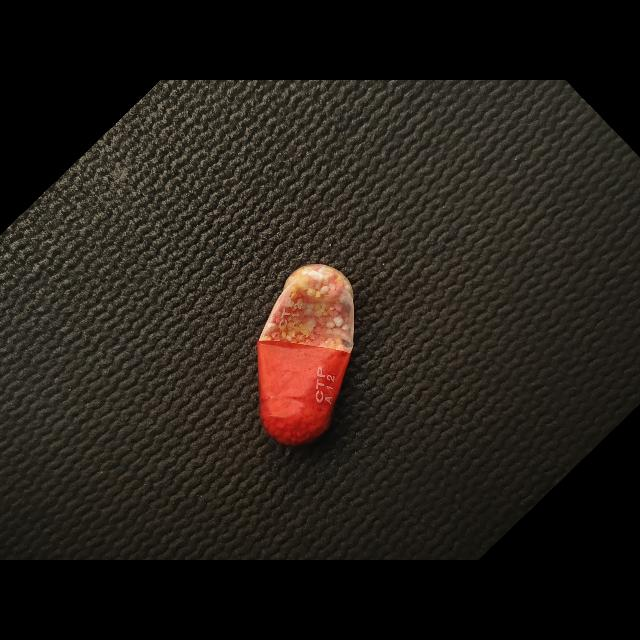Defective Capsule: (257, 264, 354, 446)
